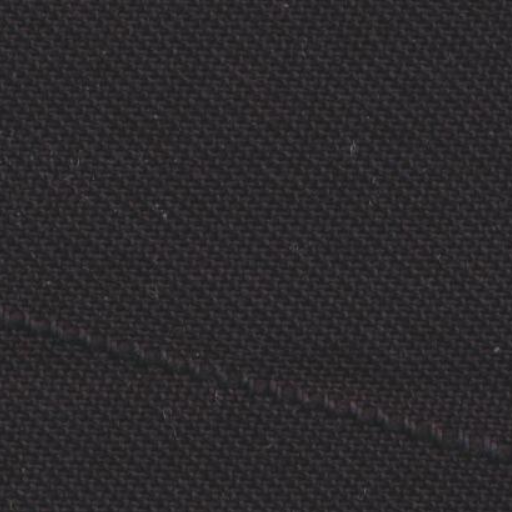DaiSha: (8, 303, 504, 459)
